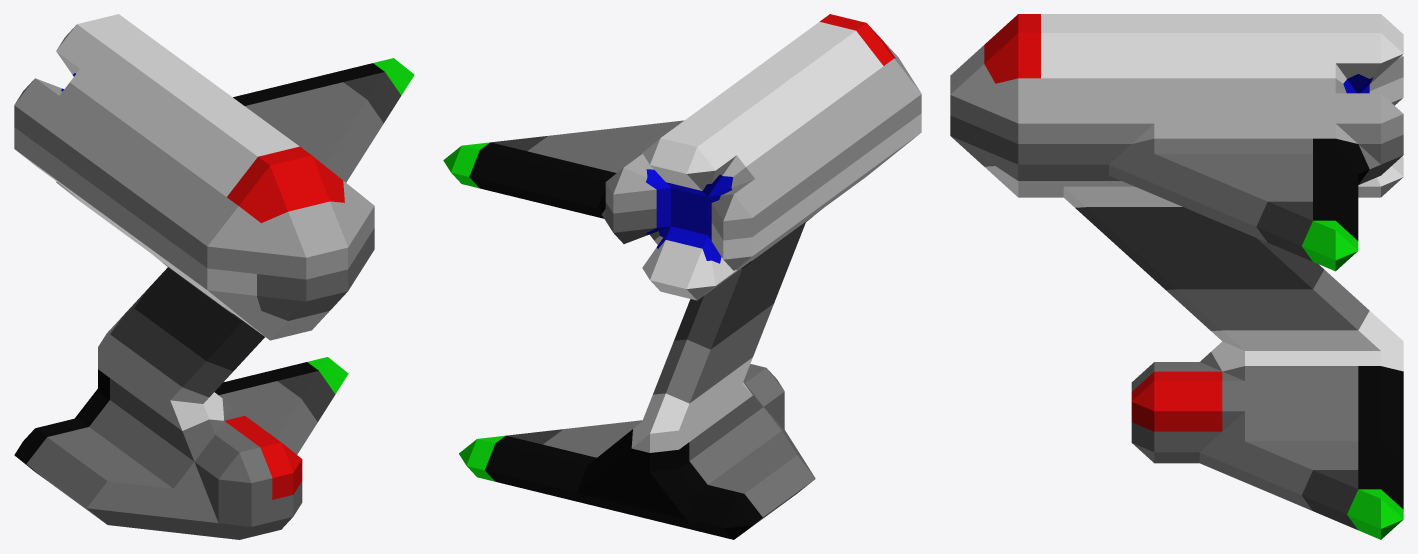
Rendered from ship_basic_boxer.fbx.
3 renders of one model, left to right at view 1: azimuth 30°, elevation 25°; view 2: azimuth 150°, elevation 25°; view 3: azimuth 270°, elevation 25°, orthographic. The views are drawn at different scales.
Parts seen in each view (by area): view 1: ship_basic_boxer; view 2: ship_basic_boxer; view 3: ship_basic_boxer.
Boxes of the visible parts, x1,y1,x2,y2 form: ship_basic_boxer: [14, 14, 414, 539]; ship_basic_boxer: [443, 14, 921, 539]; ship_basic_boxer: [950, 14, 1403, 539].
Size of the model in its own units: 900 by 1000 by 1000.
